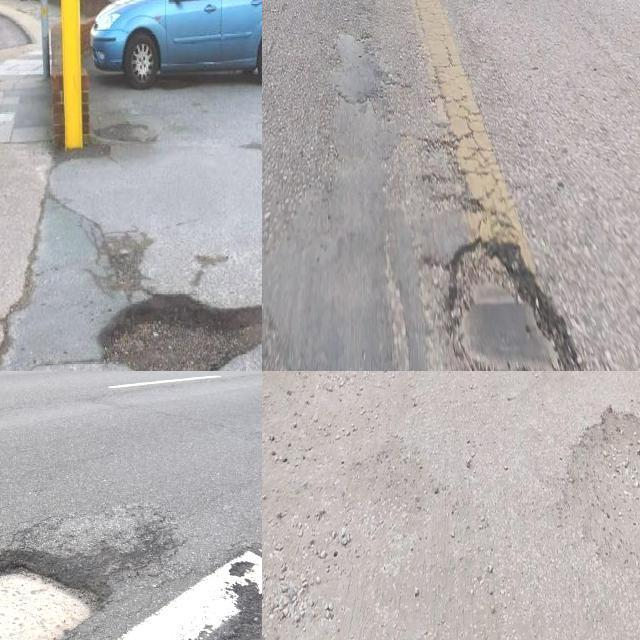Pothole: (446, 233, 582, 371), (555, 401, 640, 576), (96, 290, 262, 371), (0, 548, 103, 640)
